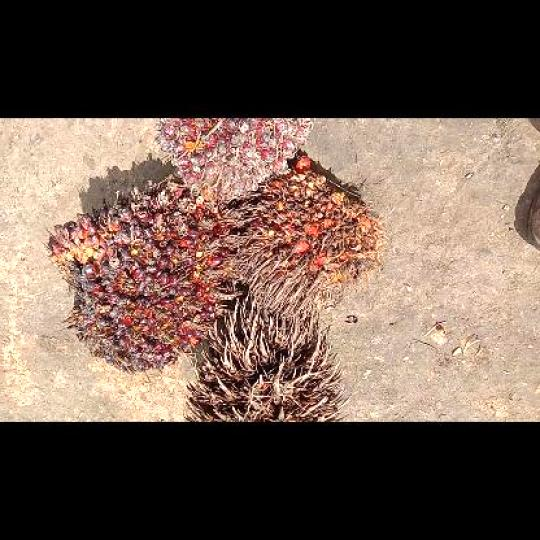kurang masak: (152, 118, 318, 201)
masak: (45, 182, 228, 374)
terlalu masak: (220, 153, 388, 322)
